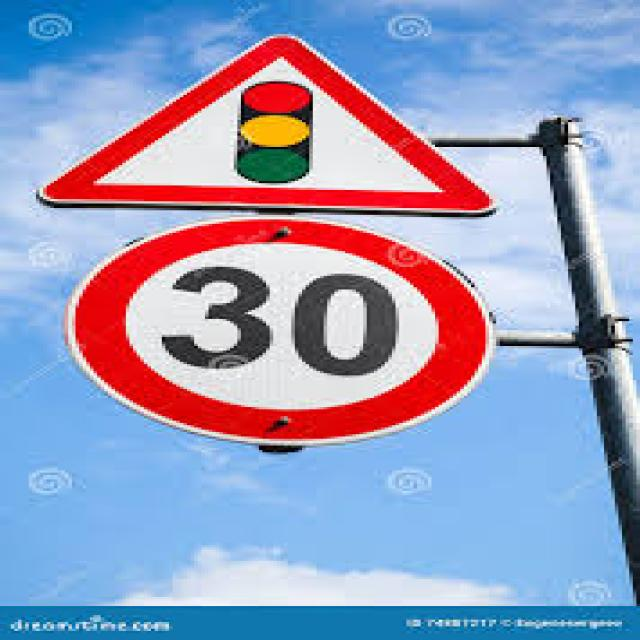Speed limit 30: (59, 214, 497, 449)
